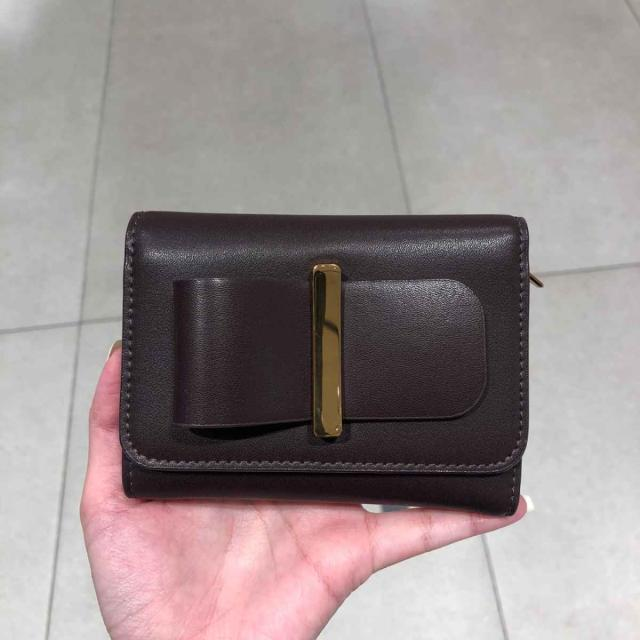Handbag: (118, 208, 530, 516)
